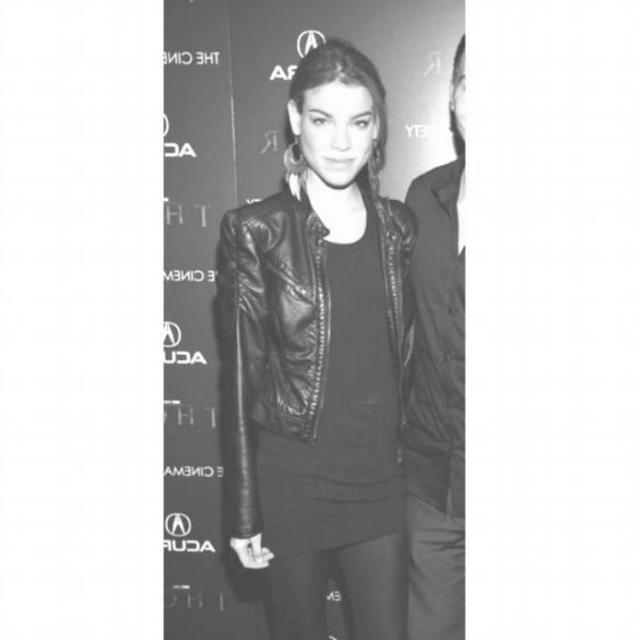real: (282, 62, 394, 192)
